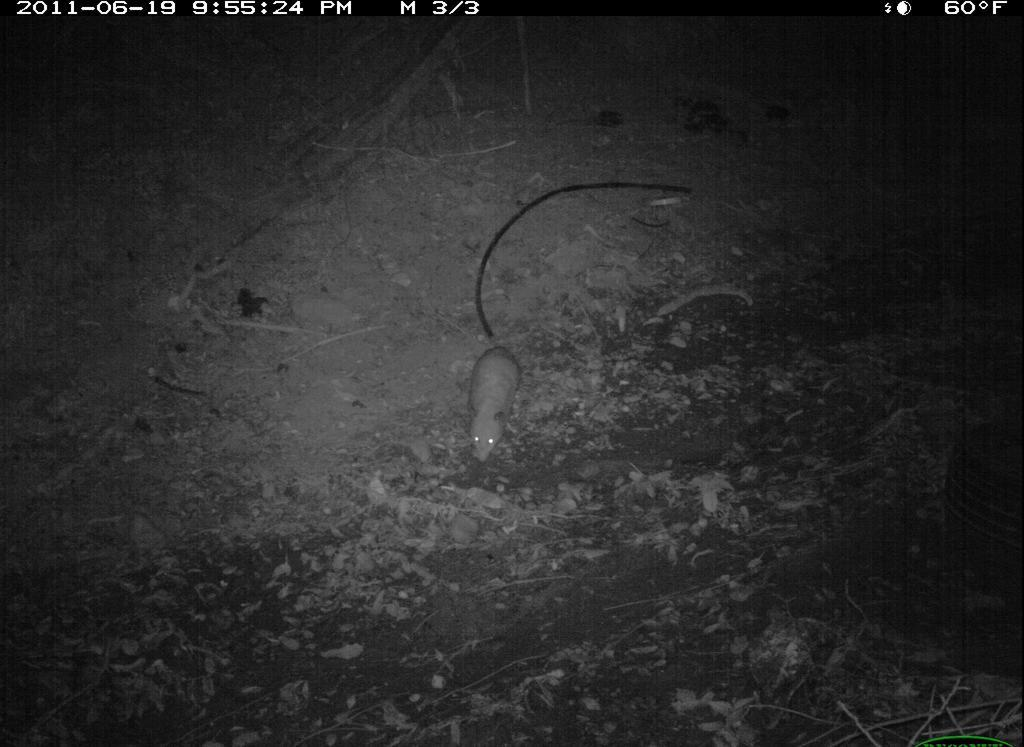opossum: (466, 338, 534, 468)
